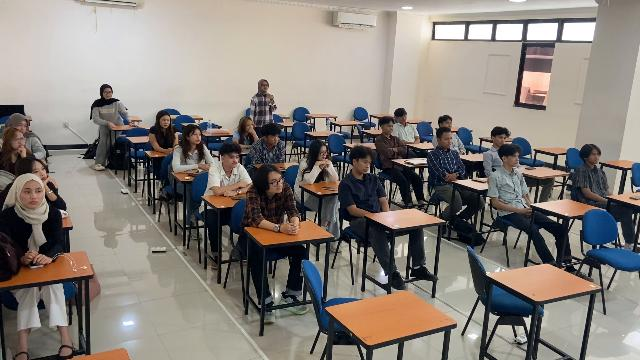fokus: (23, 184, 41, 207), (268, 172, 283, 193), (32, 163, 47, 181), (11, 134, 24, 149), (226, 152, 239, 167), (360, 157, 371, 174), (190, 129, 201, 144), (17, 118, 27, 134), (509, 152, 519, 167), (590, 149, 600, 164), (268, 132, 279, 145), (443, 133, 452, 148), (385, 121, 394, 135), (319, 146, 327, 160), (161, 116, 170, 128), (497, 134, 506, 145), (246, 120, 254, 132), (398, 113, 407, 123), (443, 121, 452, 130)
